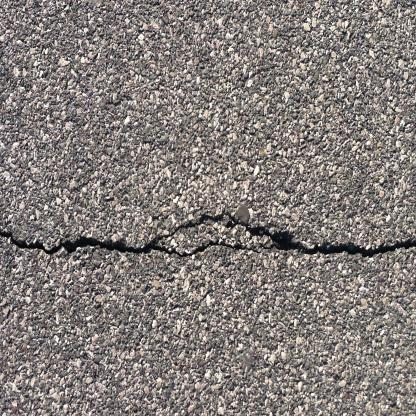Cracks: (0, 187, 416, 261)
